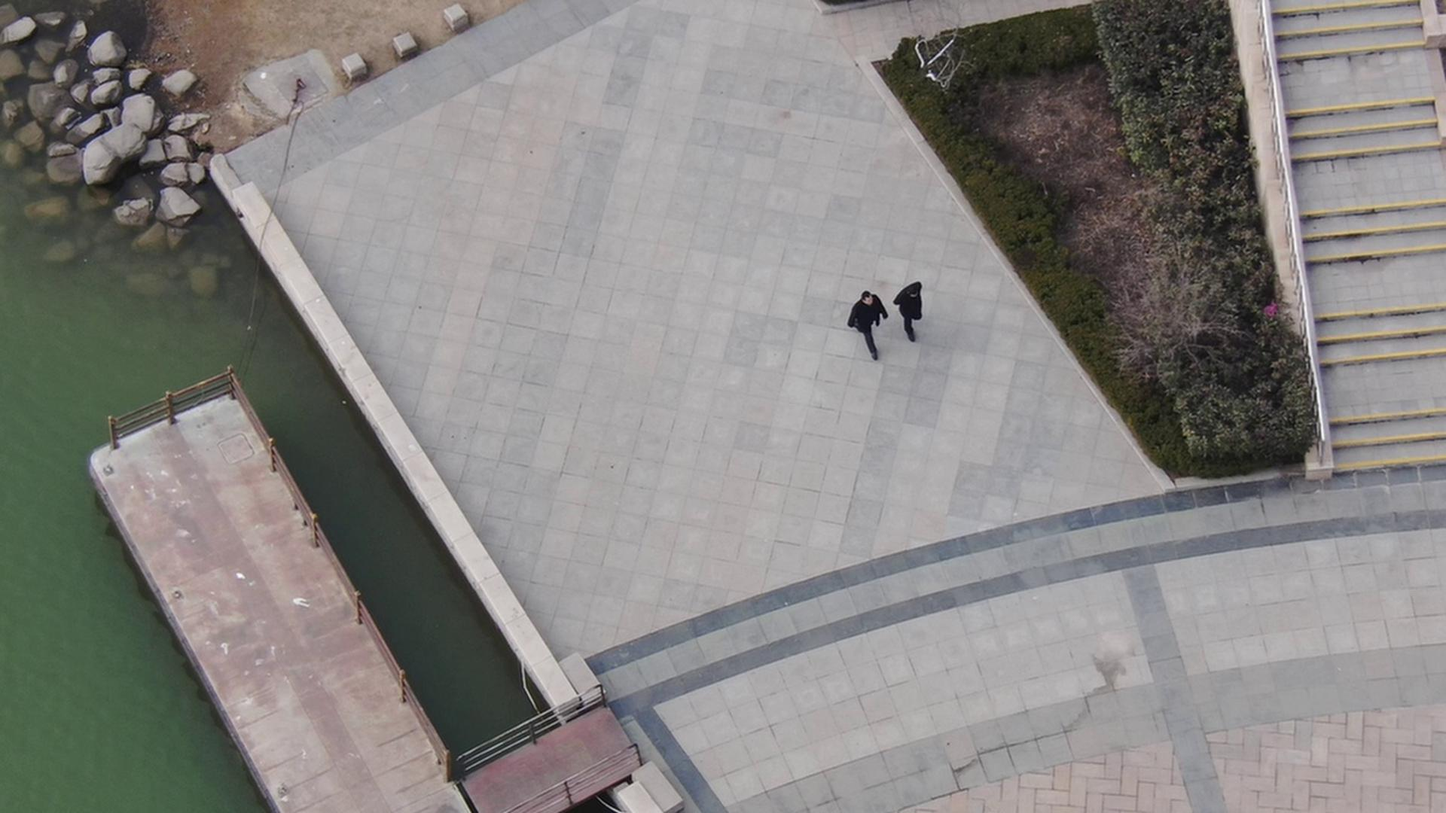human: (852, 278, 892, 346), (895, 268, 932, 336)
